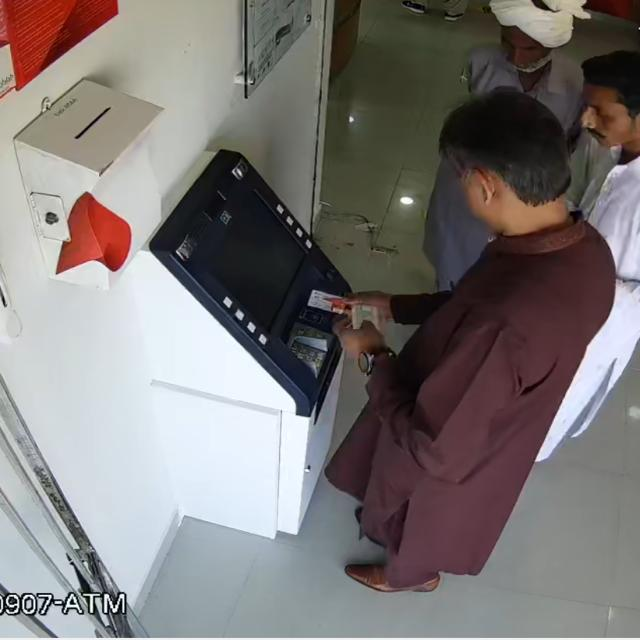atm-card: (298, 283, 349, 317)
